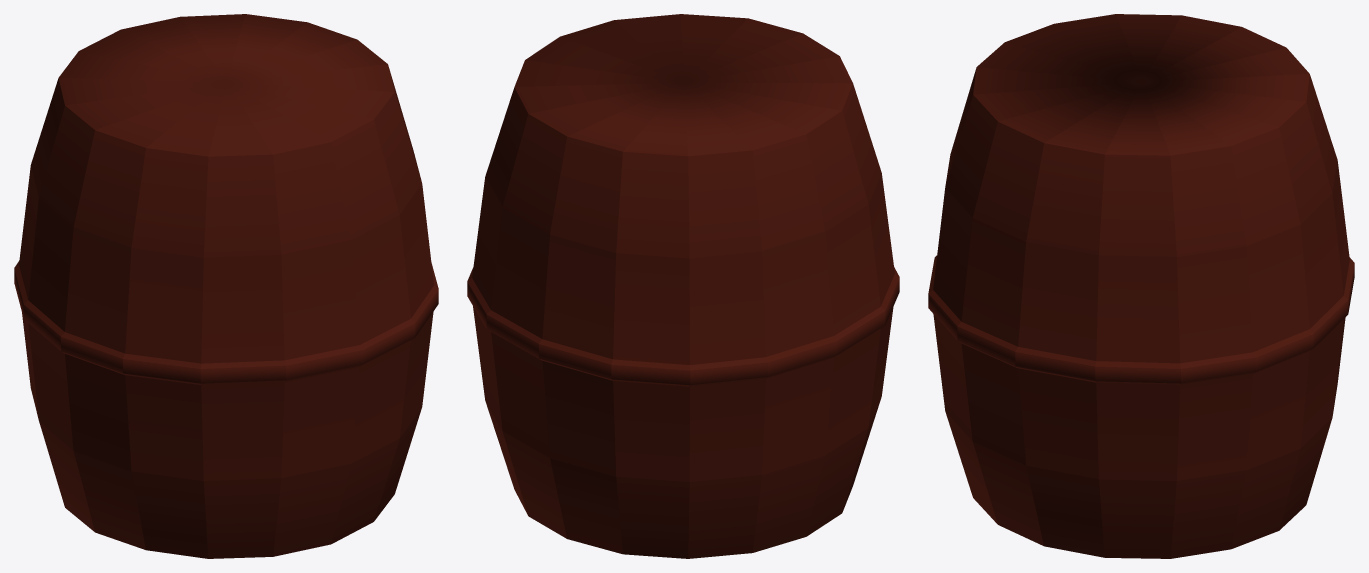
Rendered from Barrel_Convex.fbx.
3 renders of one model, left to right at view 1: azimuth 30°, elevation 25°; view 2: azimuth 150°, elevation 25°; view 3: azimuth 270°, elevation 25°, orthographic.
Parts seen in each view (by area): view 1: barrel; view 2: barrel; view 3: barrel.
Part boxes in pixels (x1,y1,x2,y2): barrel: (14, 14, 438, 558); barrel: (467, 14, 899, 558); barrel: (928, 14, 1354, 558).
Size of the model in its own units: 141 by 150 by 142.
